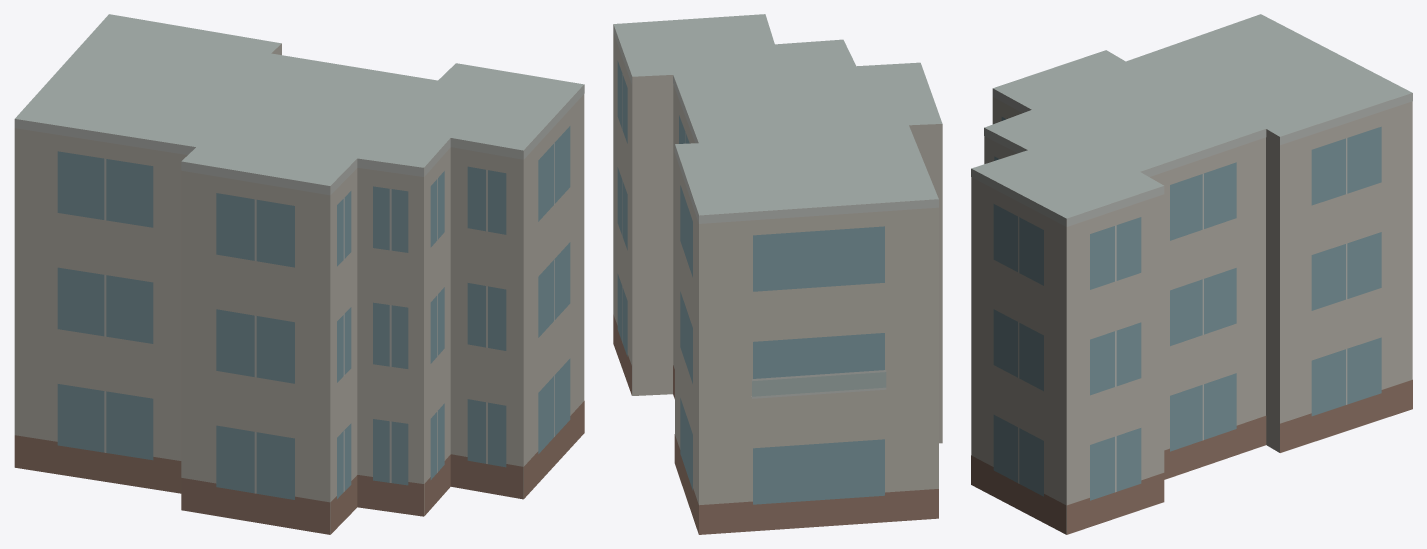
Rendered from survey-upis-32696426.glb.
The picture shows the model from 3 angles, left to right: view 1: azimuth 30°, elevation 25°; view 2: azimuth 150°, elevation 25°; view 3: azimuth 270°, elevation 25°; orthographic projection. The views are drawn at different scales.
Visible parts, largest first — view 1: survey-upis-32696426.tmp; view 2: survey-upis-32696426.tmp; view 3: survey-upis-32696426.tmp.
Boxes of the visible parts, box(x1,y1,x2,y2) form: survey-upis-32696426.tmp: box(14, 14, 584, 534); survey-upis-32696426.tmp: box(613, 14, 942, 534); survey-upis-32696426.tmp: box(971, 14, 1412, 534).
Size of the model in its own units: 12.71 by 9.15 by 11.59.
